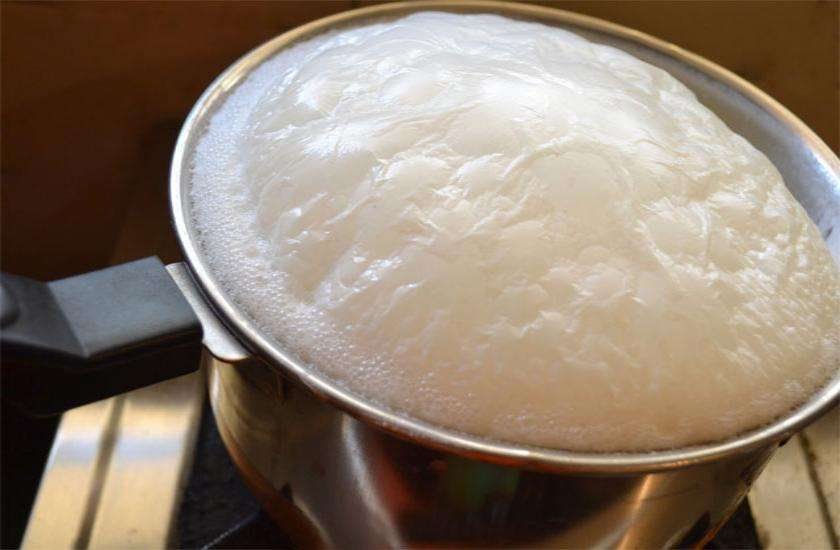Boiled: (184, 7, 838, 532)
